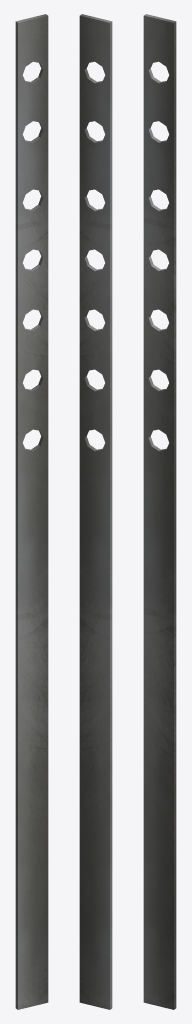
Rendered from blade_102.fbx.
3 views of the same model, side by side, from view 1: azimuth 30°, elevation 25°; view 2: azimuth 150°, elevation 25°; view 3: azimuth 330°, elevation 25° (orthographic).
Parts seen in each view (by area): view 1: blade_102; view 2: blade_102; view 3: blade_102.
Part boxes in pixels (box(x1,y1,x2,y2)): blade_102: box(15, 14, 48, 1009); blade_102: box(79, 14, 112, 1009); blade_102: box(143, 14, 176, 1009).
Size of the model in its own units: 1 by 31.27 by 0.126.
